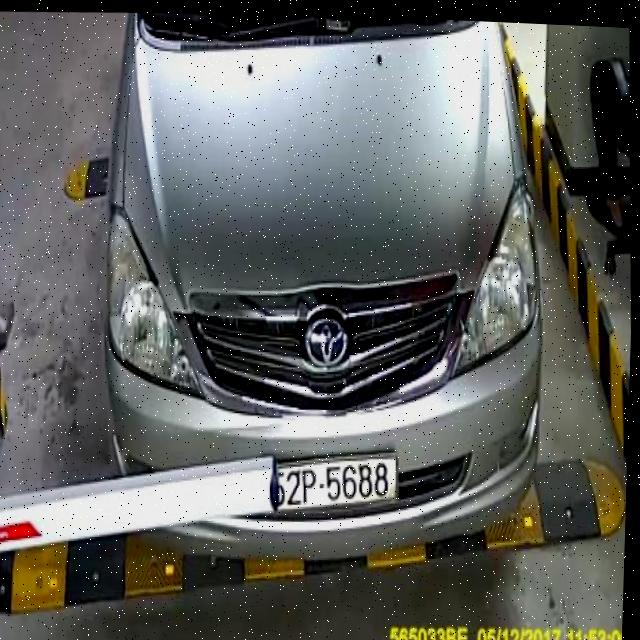car: (75, 4, 573, 589)
plate: (246, 438, 408, 523)
